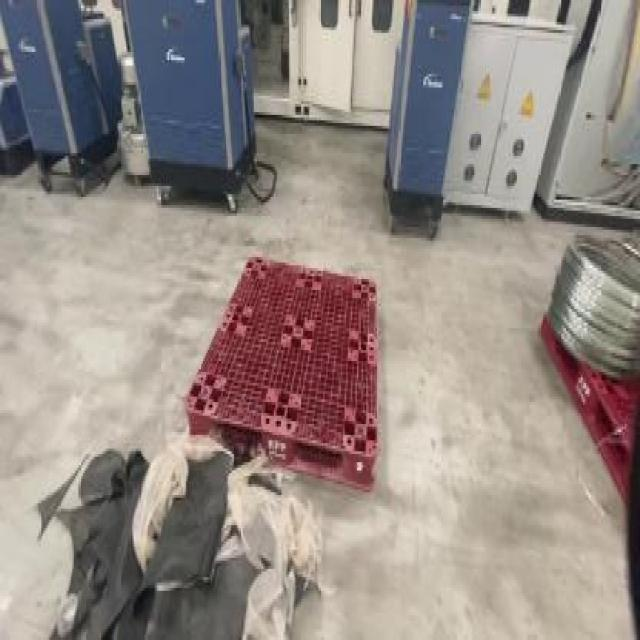box: (188, 249, 382, 487), (516, 227, 638, 533)
